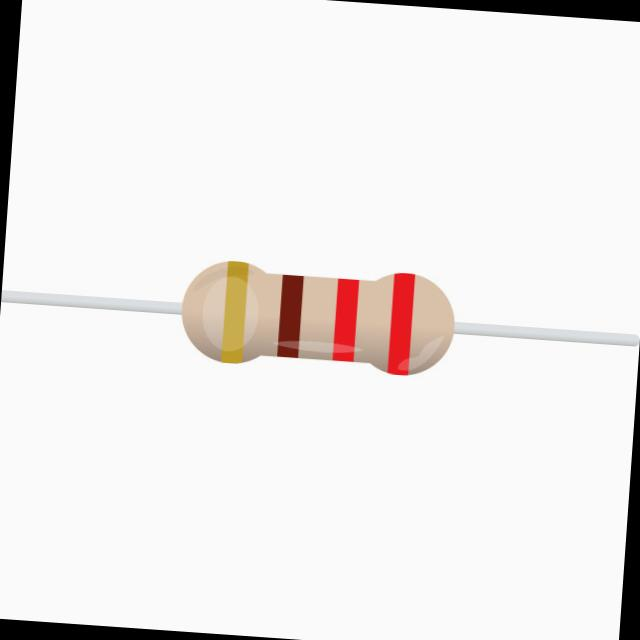Resistor: (183, 262, 454, 375)
brown: (277, 275, 302, 358)
gold: (221, 260, 248, 362)
red: (387, 272, 414, 375), (332, 278, 358, 361)
